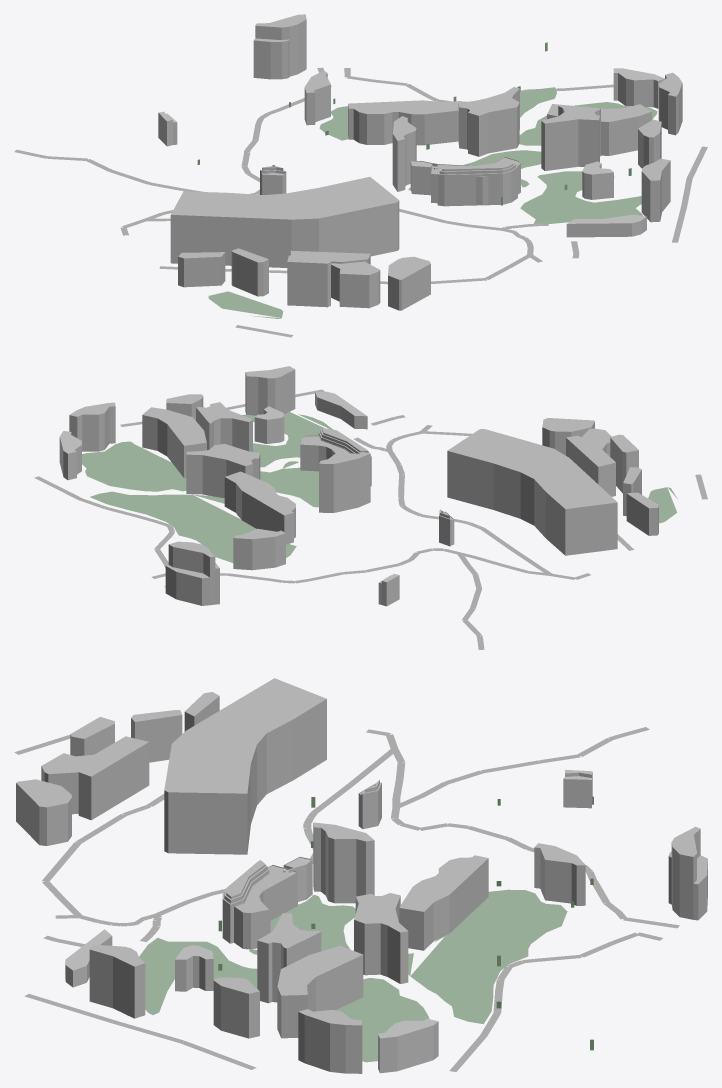
3 views of the same model, one above another, from view 1: azimuth 30°, elevation 25°; view 2: azimuth 150°, elevation 25°; view 3: azimuth 270°, elevation 25° (orthographic). The views are drawn at different scales.
Bounding box in the file's own units: 519 × 53.08 × 448.
